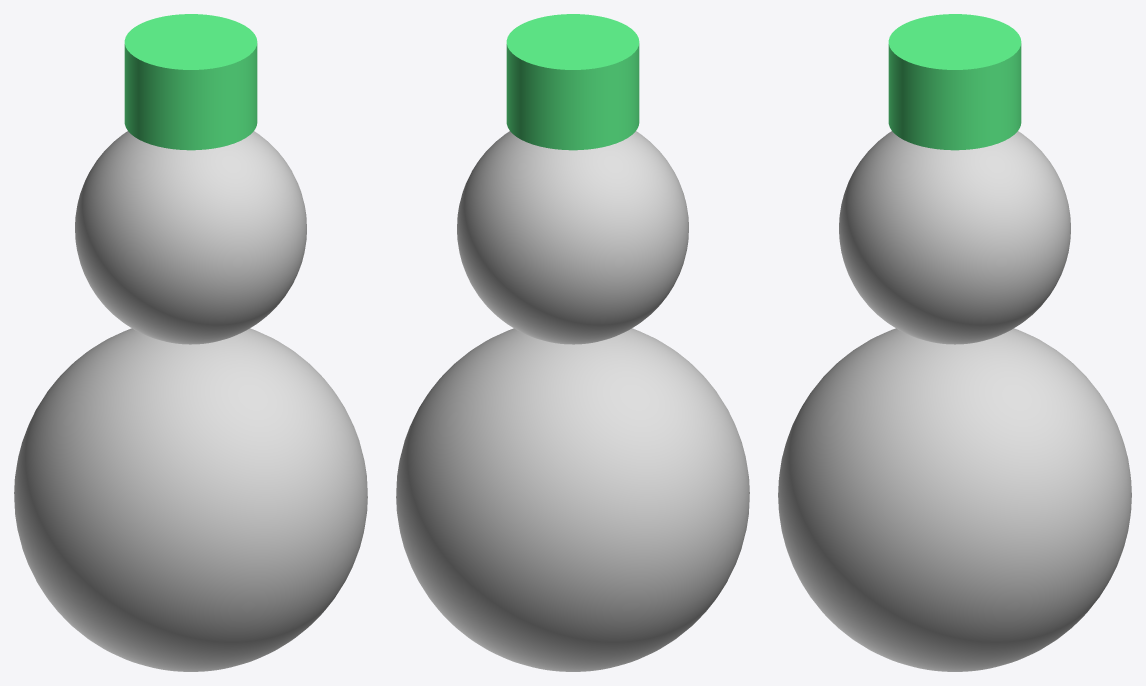
Rendered from snowman.glb.
3 renders of one model, left to right at view 1: azimuth 30°, elevation 25°; view 2: azimuth 150°, elevation 25°; view 3: azimuth 270°, elevation 25°, orthographic.
Parts seen in each view (by area): view 1: snowman; view 2: snowman; view 3: snowman.
Boxes of the visible parts, x1,y1,x2,y2 form: snowman: [14, 14, 367, 671]; snowman: [396, 14, 749, 671]; snowman: [778, 14, 1131, 671].
Size of the model in its own units: 0.04 by 0.0765 by 0.04.
